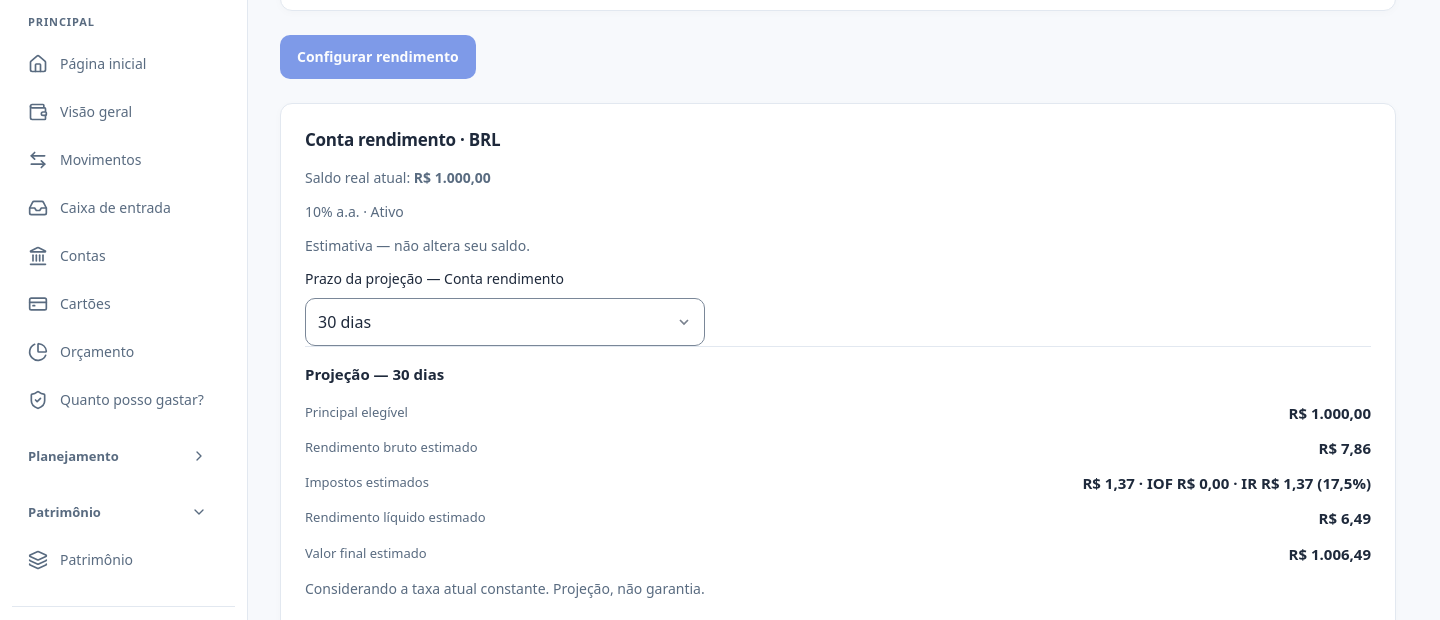
Scenario: yield frontend boundary › new version, rule history,30/90/365/custom horizons and read-only comparison
(page scrolled)
expect the heading "Conta rendimento · BRL" is shown: met, box [305,128,500,151]
Select "90 dias" in the dropdown labelled "Prazo da projeção — Conta rendimento" at coordinates (505, 322), box [305,298,705,346]
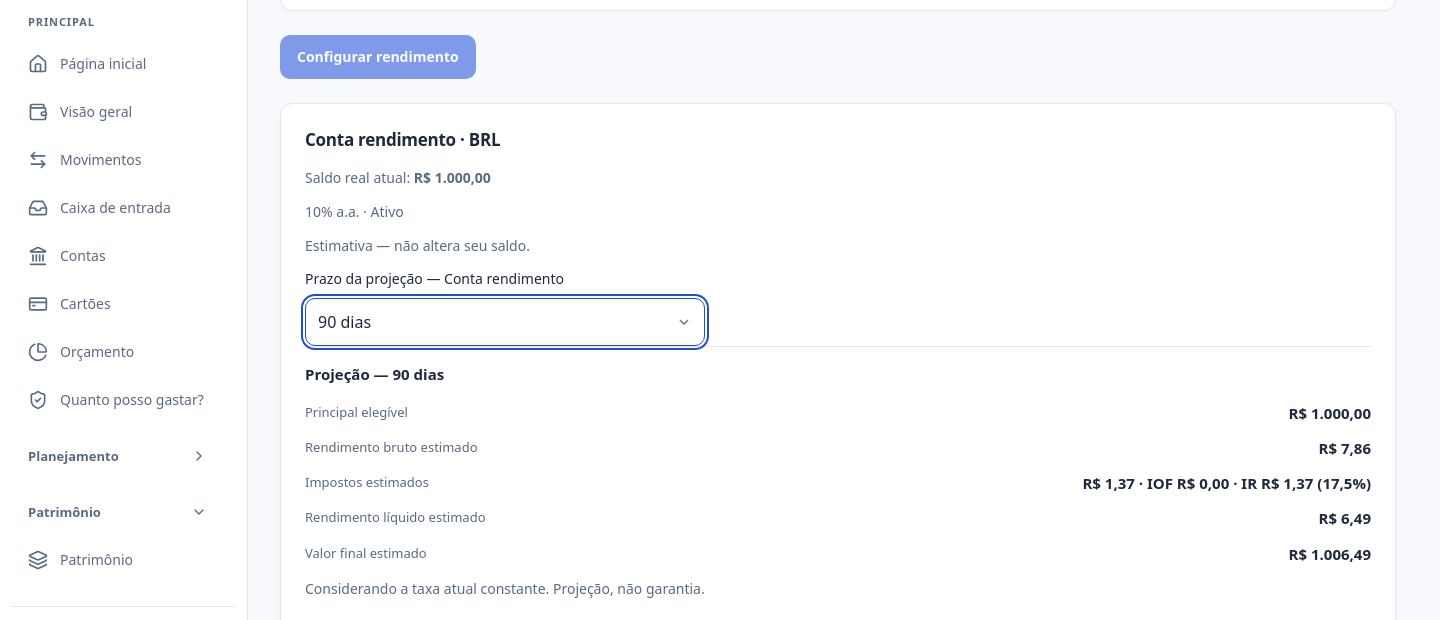
expect the heading "Projeção — 90 dias" is shown: met, box [305,364,444,384]
Select "1 ano (365 dias)" in the dropdown labelled "Prazo da projeção — Conta rendimento" at coordinates (505, 322), box [305,298,705,346]
(page scrolled)
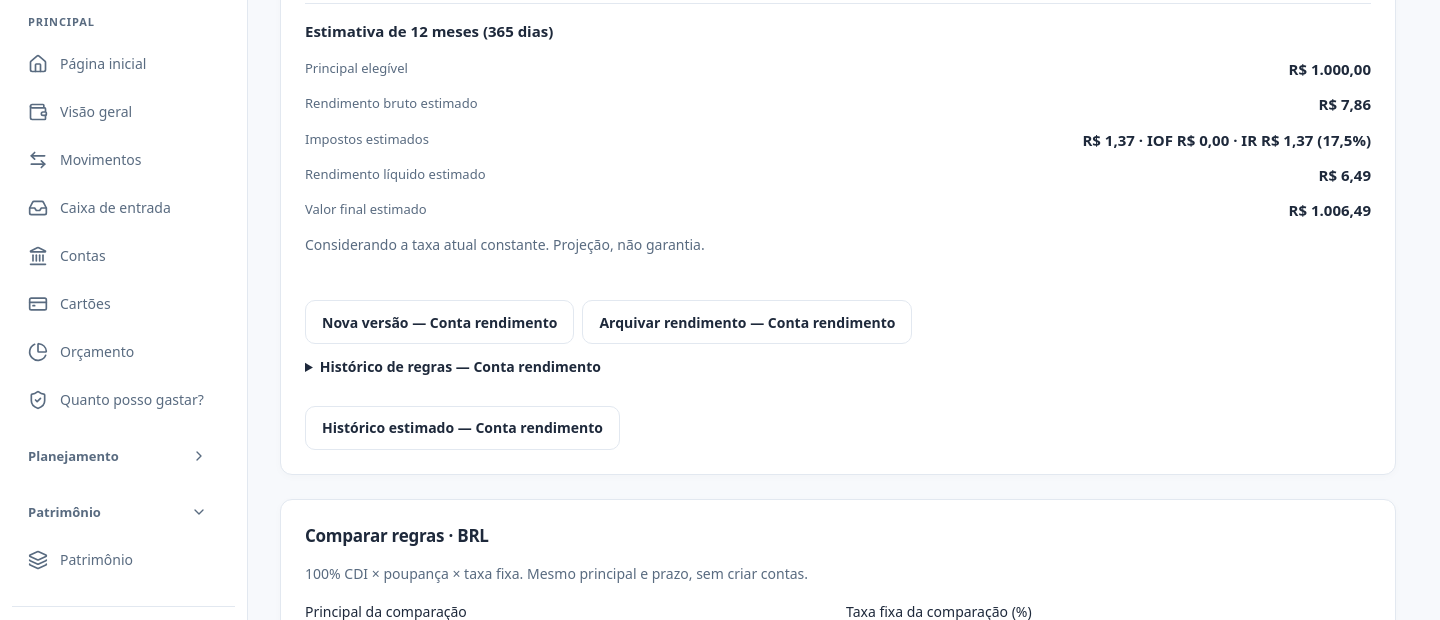
Click the button "Nova versão — Conta rendimento" at coordinates (440, 322), box [305,300,574,344]
(page scrolled)
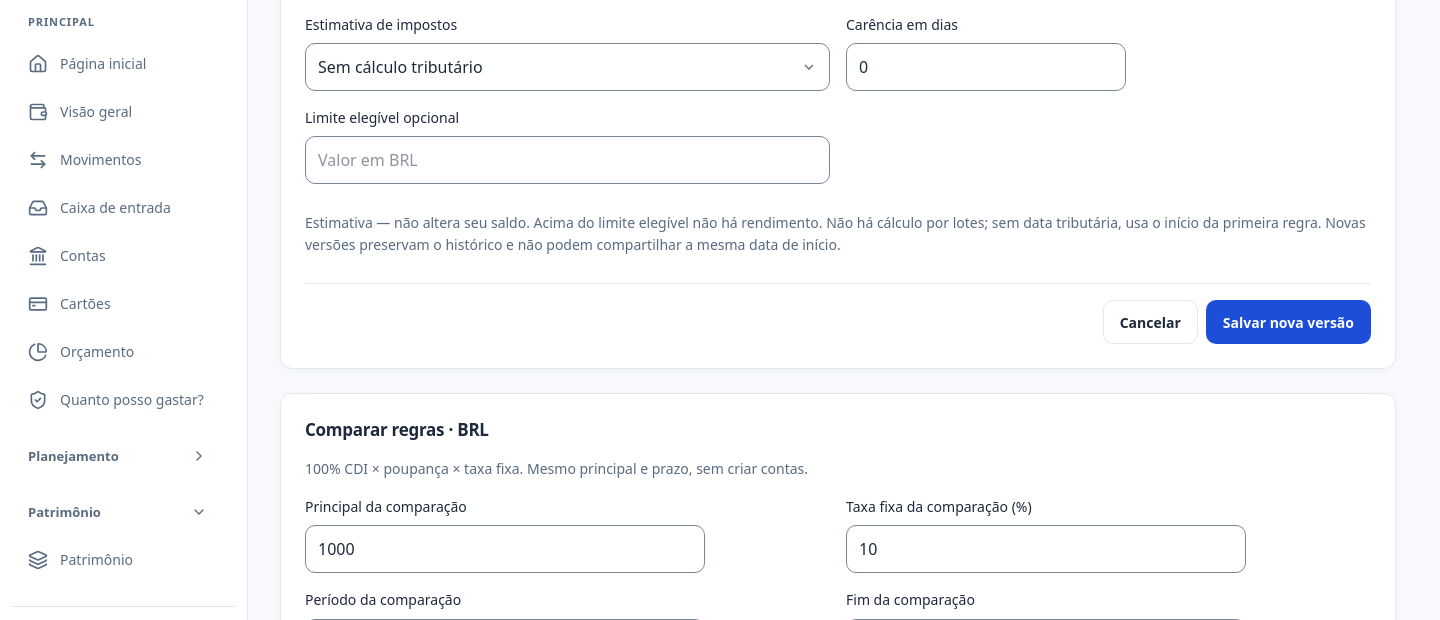
Click the button "Salvar nova versão" at coordinates (1288, 322), box [1206,300,1371,344]
(page scrolled)
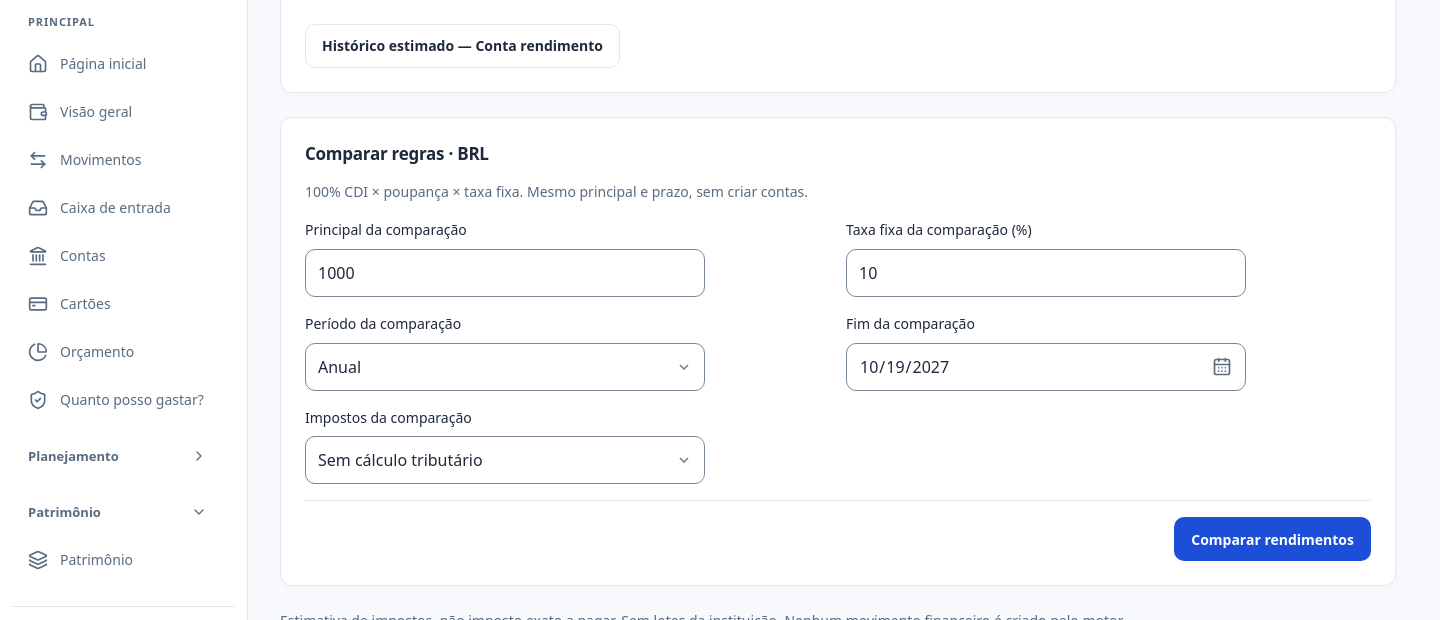
Click the button "Comparar rendimentos" at coordinates (1273, 539), box [1174,517,1371,561]
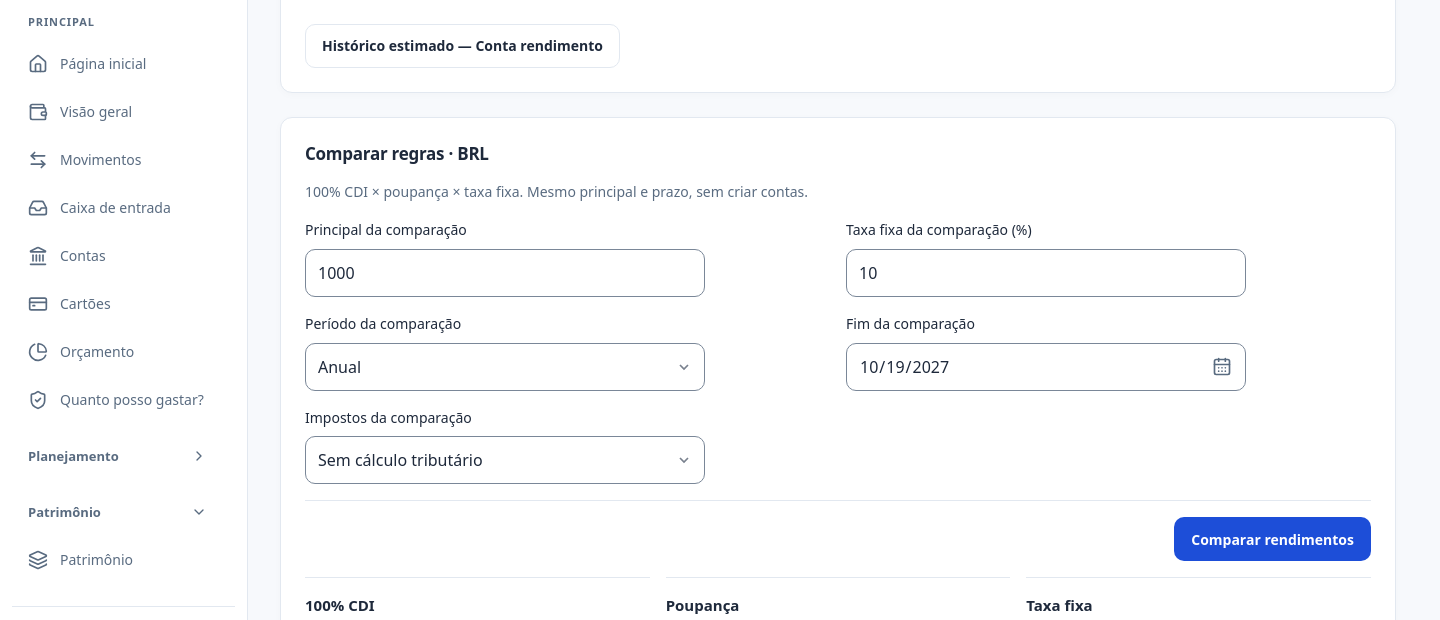
expect the heading "100% CDI" is shown: met, box [305,595,375,615]
